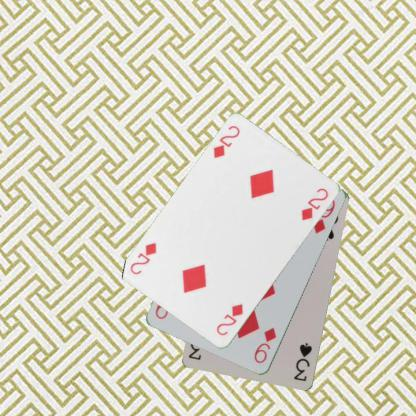2d: (210, 123, 242, 160), (214, 301, 244, 337)
3s: (291, 340, 314, 382)
9d: (251, 325, 278, 365)
